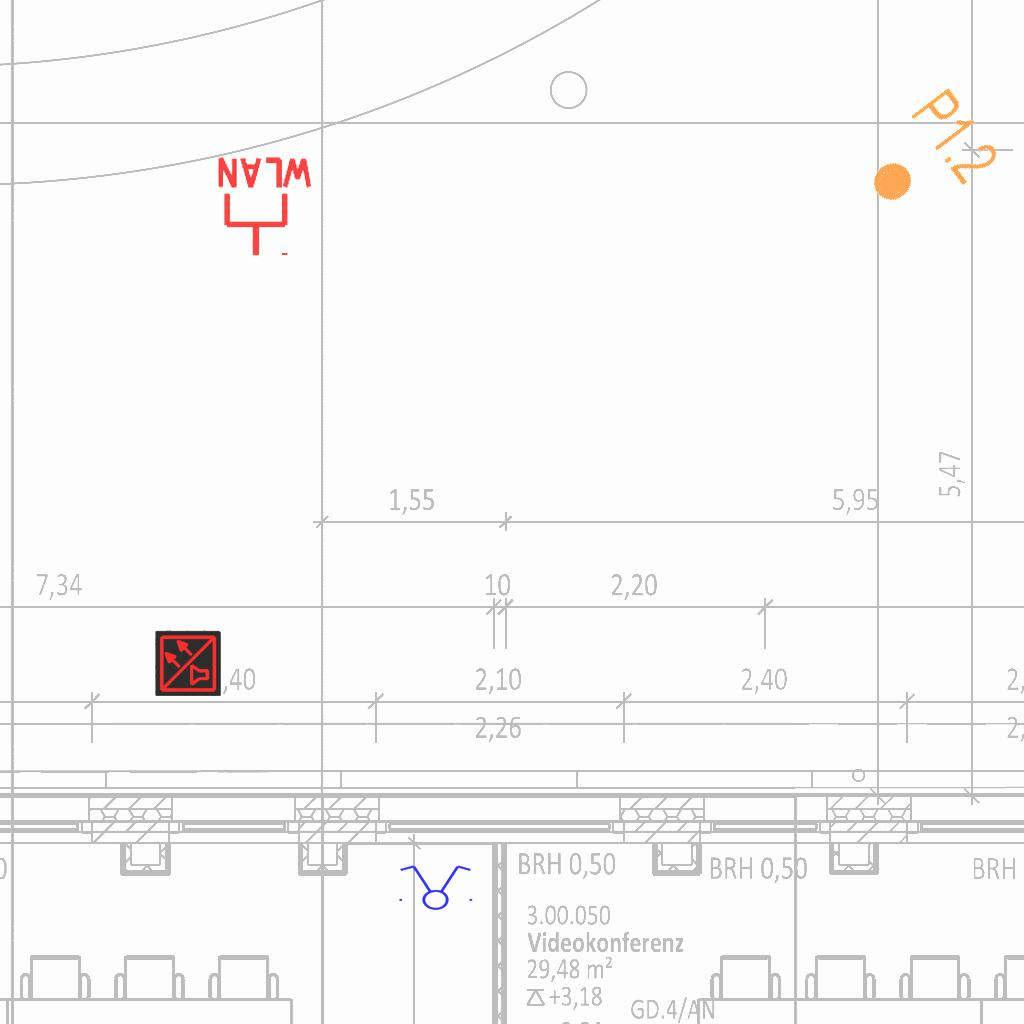Downlight_LED_Einbauleuchten_Flur: (847, 82, 1006, 234)
OKW_Multisensormelder_(Kombination_optischer_Rauch-Kahlenmonoxid_Waerme-Melder): (155, 630, 221, 696)
Serienschalter: (393, 863, 477, 911)
WLAN: (213, 155, 317, 260)
